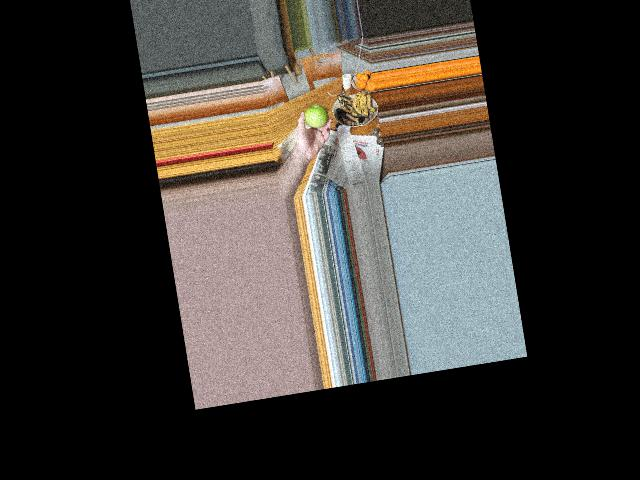apple: (300, 101, 330, 131)
